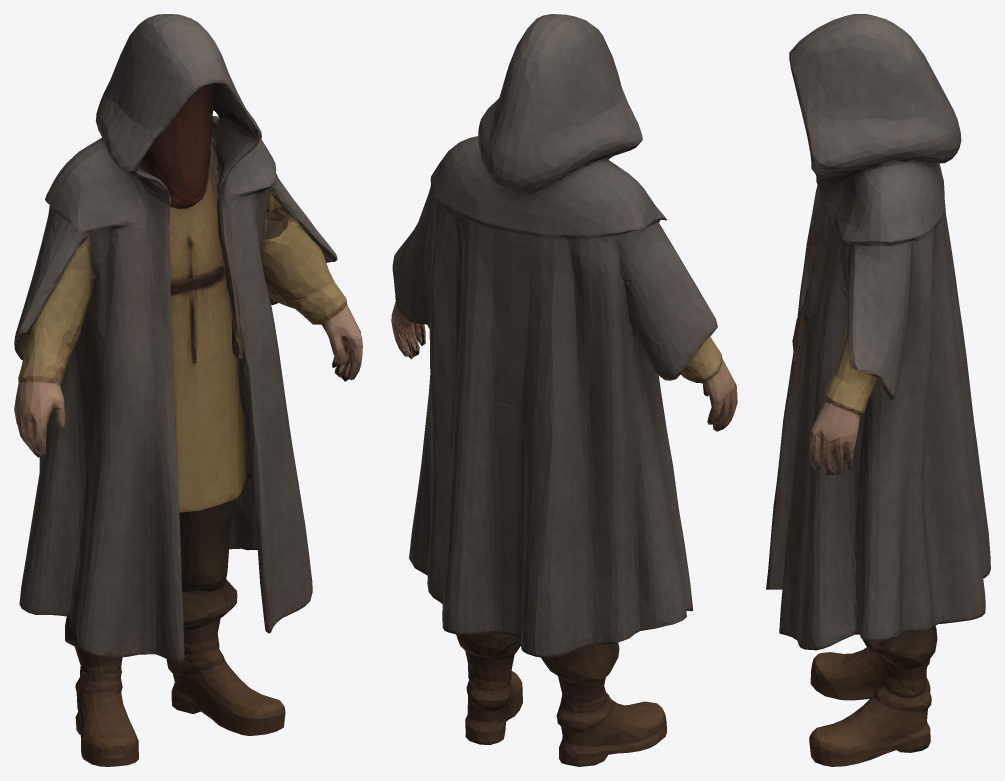
File: velato_cappuccio-sam-grezzo.glb
3 views of the same model, side by side, from view 1: azimuth 30°, elevation 25°; view 2: azimuth 150°, elevation 25°; view 3: azimuth 270°, elevation 25° (orthographic).
Visible parts, largest first — view 1: geometry_0; view 2: geometry_0; view 3: geometry_0.
Boxes of the visible parts, <box> form: geometry_0: <box>14,14,362,766</box>; geometry_0: <box>391,14,737,766</box>; geometry_0: <box>766,14,990,766</box>.
Bounding box in the file's own units: 0.4937 × 0.9996 × 0.2895.
Materials: 1 (1 with a texture image).
